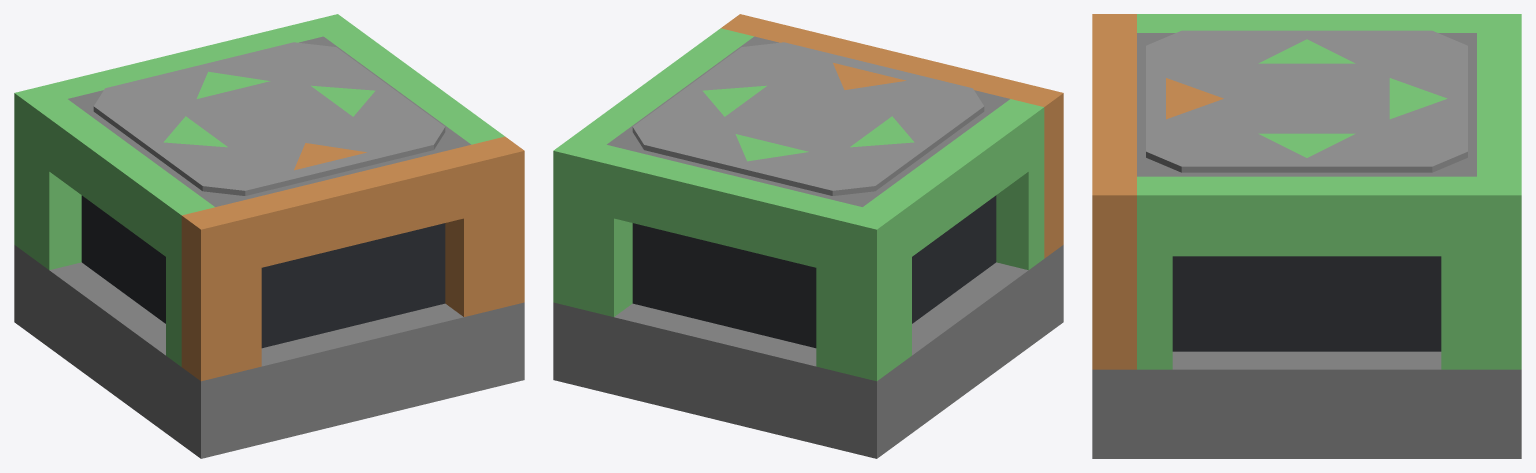
Rendered from vfef_splitter3.obj.
The picture shows the model from 3 angles, left to right: view 1: azimuth 30°, elevation 25°; view 2: azimuth 150°, elevation 25°; view 3: azimuth 270°, elevation 25°; orthographic projection. The views are drawn at different scales.
Parts seen in each view (by area): view 1: vfef_splitter3_0, vfef_splitter3_22, vfef_splitter3_13, vfef_splitter3_12, vfef_splitter3_16, vfef_splitter3_18, vfef_splitter3_11, vfef_splitter3_20, vfef_splitter3_15, vfef_splitter3_17, vfef_splitter3_10, vfef_splitter3_8 (+11 smaller); view 2: vfef_splitter3_0, vfef_splitter3_22, vfef_splitter3_5, vfef_splitter3_4, vfef_splitter3_16, vfef_splitter3_19, vfef_splitter3_3, vfef_splitter3_21, vfef_splitter3_14, vfef_splitter3_17, vfef_splitter3_2, vfef_splitter3_8 (+11 smaller); view 3: vfef_splitter3_0, vfef_splitter3_22, vfef_splitter3_9, vfef_splitter3_8, vfef_splitter3_20, vfef_splitter3_21, vfef_splitter3_6, vfef_splitter3_7, vfef_splitter3_4, vfef_splitter3_12, vfef_splitter3_1, vfef_splitter3_16 (+10 smaller).
Part boxes in pixels (<box>): vfef_splitter3_0: <box>14,245,524,458</box>; vfef_splitter3_22: <box>93,42,445,195</box>; vfef_splitter3_13: <box>261,223,445,348</box>; vfef_splitter3_12: <box>243,151,463,267</box>; vfef_splitter3_16: <box>49,110,199,256</box>; vfef_splitter3_18: <box>181,207,234,381</box>; vfef_splitter3_11: <box>445,144,490,316</box>; vfef_splitter3_20: <box>472,136,524,310</box>; vfef_splitter3_15: <box>33,99,82,270</box>; vfef_splitter3_17: <box>81,195,165,323</box>; vfef_splitter3_10: <box>215,200,261,372</box>; vfef_splitter3_8: <box>339,39,488,133</box>; vfef_splitter3_0: <box>553,245,1063,458</box>; vfef_splitter3_22: <box>632,42,984,195</box>; vfef_splitter3_5: <box>632,223,816,348</box>; vfef_splitter3_4: <box>614,151,834,267</box>; vfef_splitter3_16: <box>878,110,1028,256</box>; vfef_splitter3_19: <box>843,207,896,381</box>; vfef_splitter3_3: <box>587,144,632,316</box>; vfef_splitter3_21: <box>553,136,605,310</box>; vfef_splitter3_14: <box>995,99,1044,270</box>; vfef_splitter3_17: <box>912,195,996,323</box>; vfef_splitter3_2: <box>816,200,862,372</box>; vfef_splitter3_8: <box>589,39,738,133</box>; vfef_splitter3_0: <box>1092,351,1521,458</box>; vfef_splitter3_22: <box>1146,30,1467,172</box>; vfef_splitter3_9: <box>1172,256,1441,351</box>; vfef_splitter3_8: <box>1172,176,1441,256</box>; vfef_splitter3_20: <box>1092,176,1136,369</box>; vfef_splitter3_21: <box>1477,176,1521,369</box>; vfef_splitter3_6: <box>1137,176,1172,369</box>; vfef_splitter3_7: <box>1441,176,1476,369</box>; vfef_splitter3_4: <box>1477,48,1521,161</box>; vfef_splitter3_12: <box>1092,48,1136,161</box>; vfef_splitter3_1: <box>1137,33,1476,176</box>; vfef_splitter3_16: <box>1172,14,1441,32</box>.
Size of the model in its own units: 0.96 by 0.665 by 0.96.
